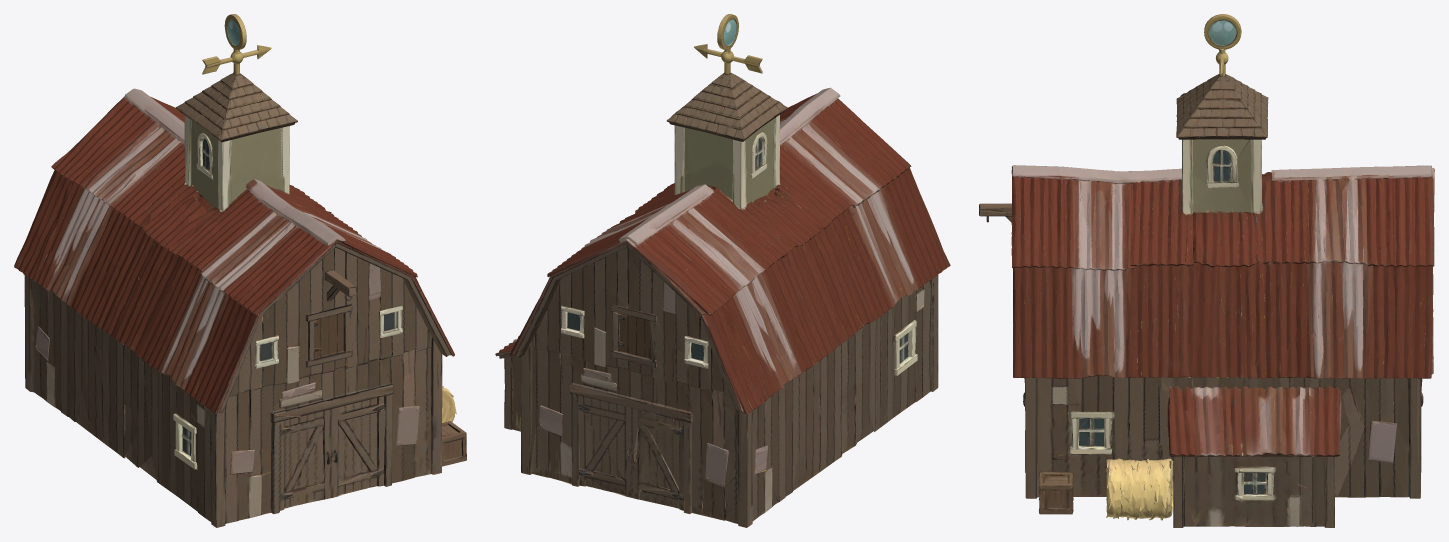
Rendered from purgebarn.glb.
3 renders of one model, left to right at view 1: azimuth 30°, elevation 25°; view 2: azimuth 150°, elevation 25°; view 3: azimuth 270°, elevation 25°, orthographic. The views are drawn at different scales.
Bounding box in the file's own units: 1.44 × 1.92 × 1.84.
1 material, 1 textured.
